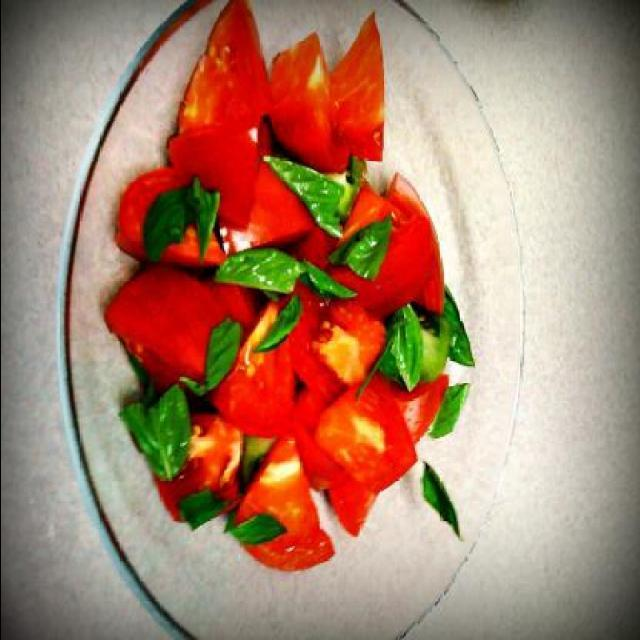Tomato: (102, 0, 436, 569), (378, 172, 448, 312), (328, 8, 386, 165)
